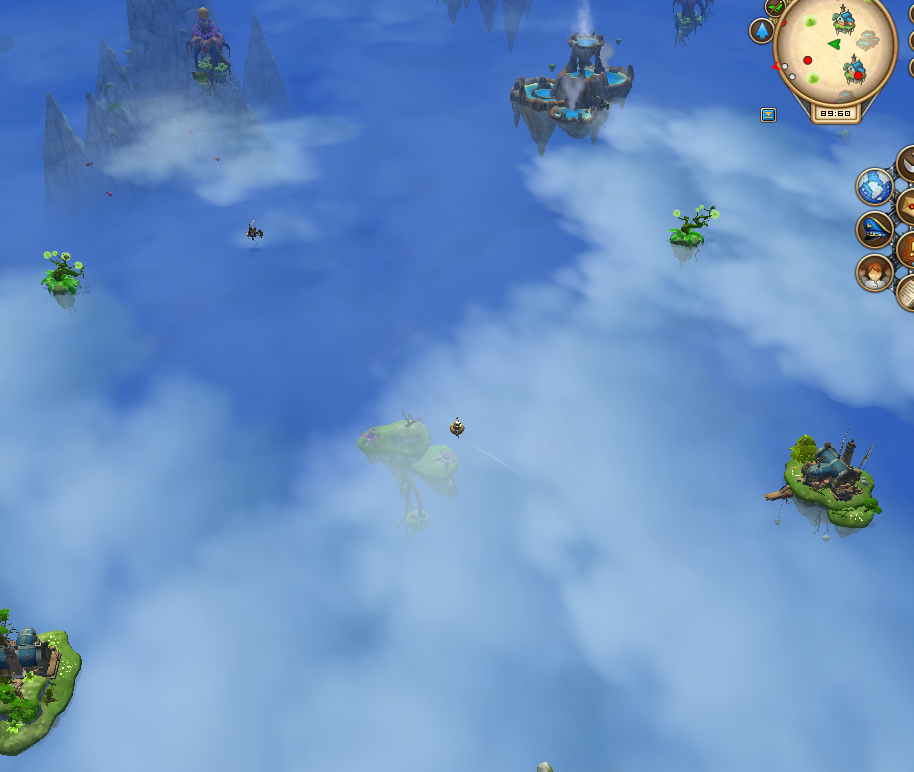dandelion-full: (32, 241, 92, 313), (660, 197, 722, 265)
